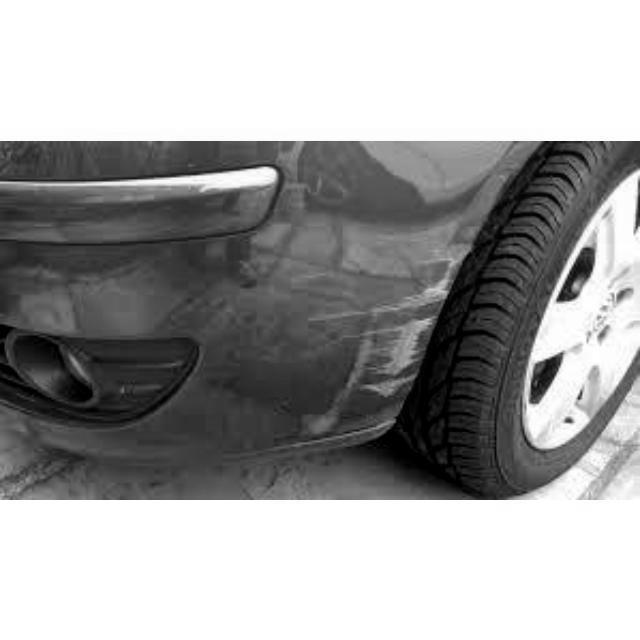front-bumper-dent: (131, 233, 458, 444)
